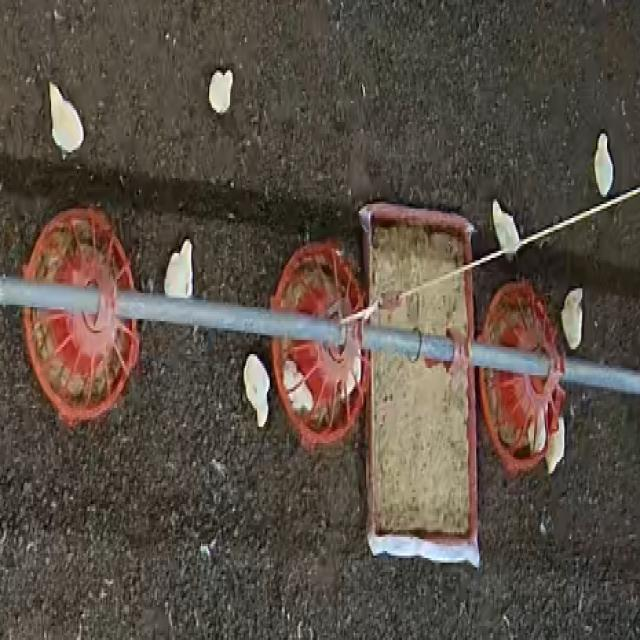broiler: (50, 82, 83, 155), (242, 354, 268, 427), (491, 199, 519, 256), (164, 237, 191, 295), (282, 359, 312, 410), (593, 131, 614, 195), (560, 288, 582, 349), (208, 70, 233, 113), (545, 415, 564, 471)
pipe: (117, 291, 344, 342), (0, 277, 98, 312), (362, 326, 453, 359), (563, 359, 639, 394), (471, 345, 548, 373)
rice: (361, 202, 476, 565), (22, 309, 139, 427), (270, 340, 369, 448), (21, 206, 131, 291), (476, 370, 564, 471), (478, 279, 563, 368), (271, 239, 363, 312)
